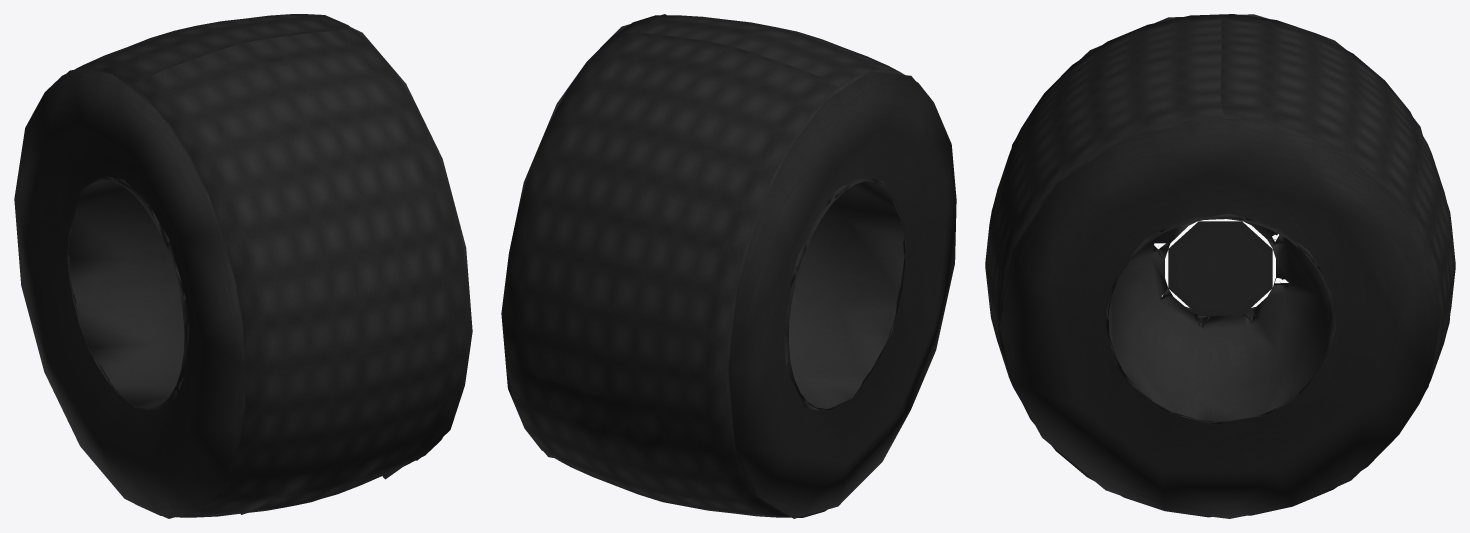
The model's file is TW_wheel_front_d1.obj.
3 renders of one model, left to right at view 1: azimuth 30°, elevation 25°; view 2: azimuth 150°, elevation 25°; view 3: azimuth 270°, elevation 25°, orthographic. The views are drawn at different scales.
Visible parts, largest first — view 1: TW_wheel_front; view 2: TW_wheel_front; view 3: TW_wheel_front.
Boxes of the visible parts, x1,y1,x2,y2 form: TW_wheel_front: [14, 14, 472, 518]; TW_wheel_front: [501, 14, 956, 518]; TW_wheel_front: [985, 14, 1455, 518].
Size of the model in its own units: 0.5978 by 0.9705 by 0.9724.
Materials: 1 (1 with a texture image).
